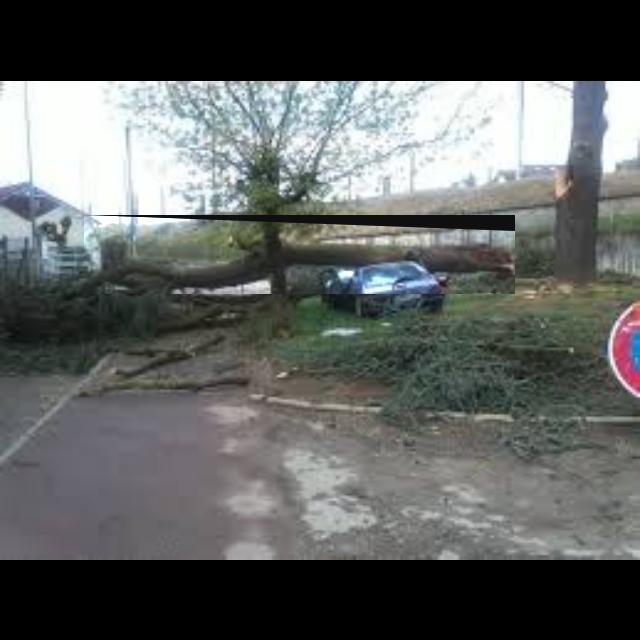Fallen Tree: (84, 215, 516, 295)
